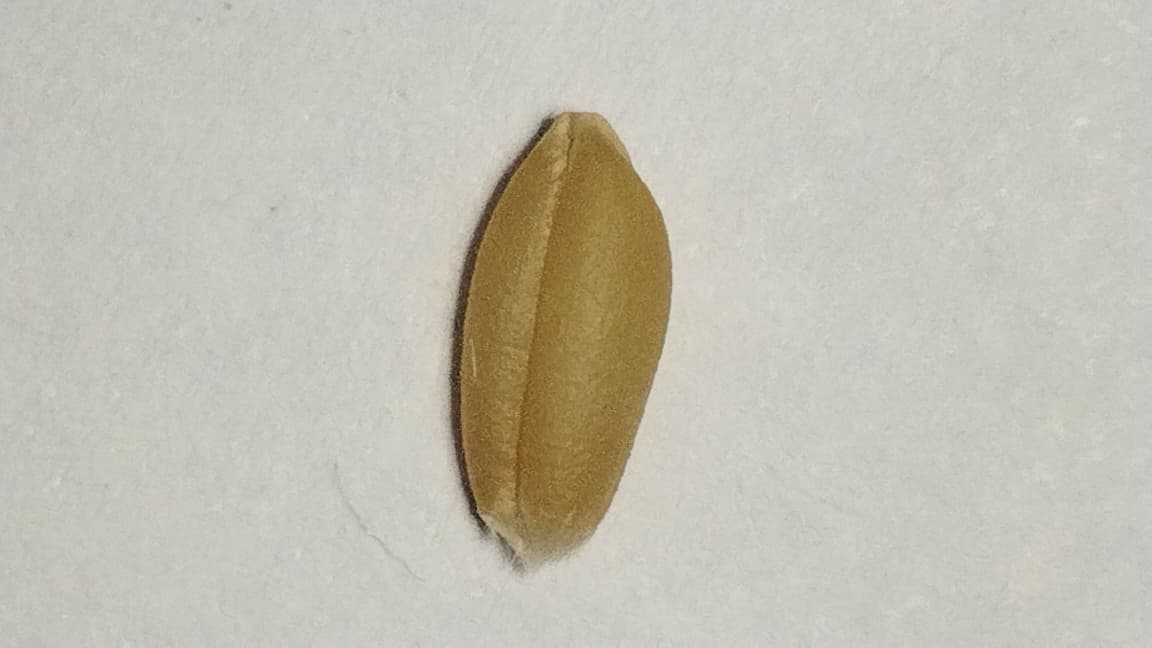healthy: (458, 112, 671, 555)
